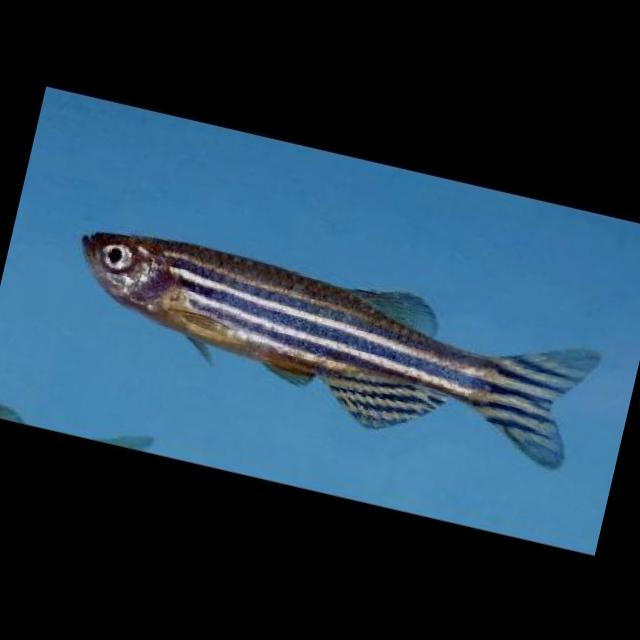ZebraFish: (51, 214, 606, 477)
